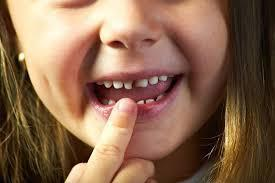cavity: (133, 78, 151, 89), (147, 75, 160, 86), (112, 79, 125, 89), (124, 79, 135, 90), (102, 79, 114, 88), (155, 94, 167, 101), (144, 97, 157, 103), (158, 75, 169, 82), (95, 80, 106, 86), (106, 98, 115, 105), (137, 98, 145, 105)
